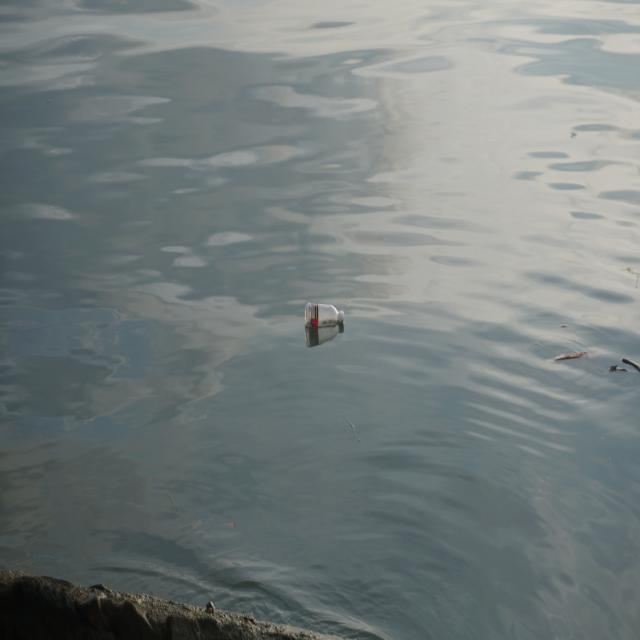Botol Plastik: (304, 295, 350, 341)
